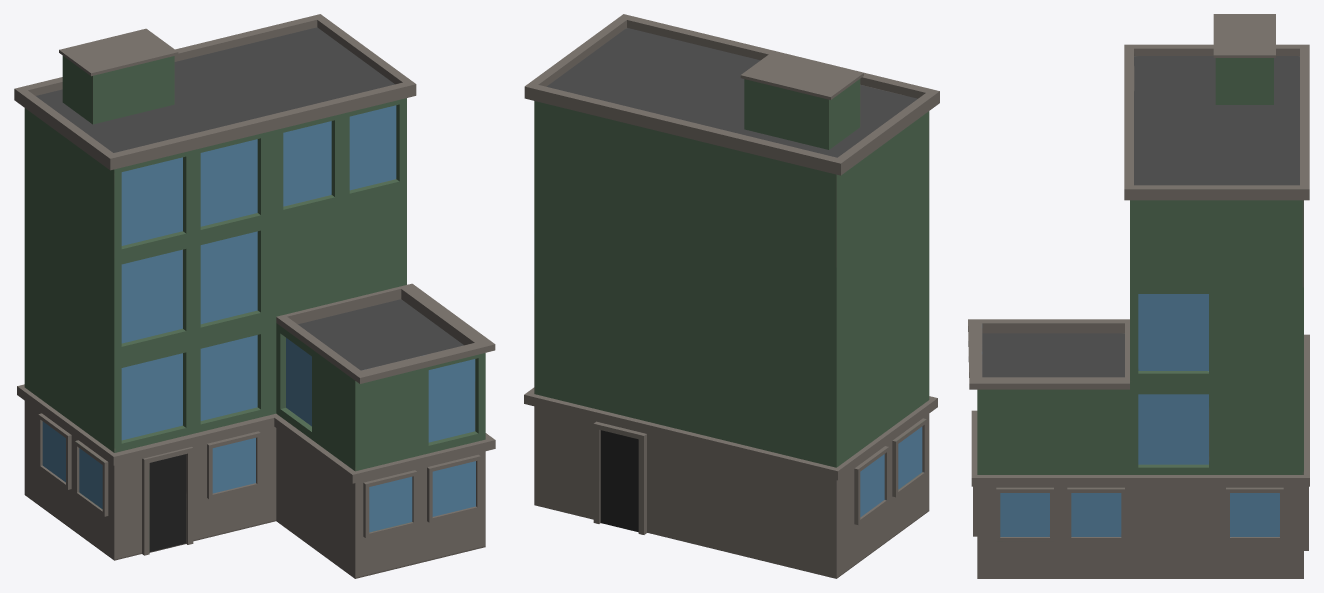
Rendered from CityBuilding02.glb.
3 renders of one model, left to right at view 1: azimuth 30°, elevation 25°; view 2: azimuth 150°, elevation 25°; view 3: azimuth 270°, elevation 25°, orthographic. The views are drawn at different scales.
Visible parts, largest first — view 1: CityBuilding02; view 2: CityBuilding02; view 3: CityBuilding02.
Part boxes in pixels (<box>): CityBuilding02: <box>14,14,495,578</box>; CityBuilding02: <box>524,14,939,578</box>; CityBuilding02: <box>968,14,1309,578</box>.
Size of what is drawn, in the model's own units: 6.34 by 8.93 by 6.33.
Materials: 1 (1 with a texture image).
